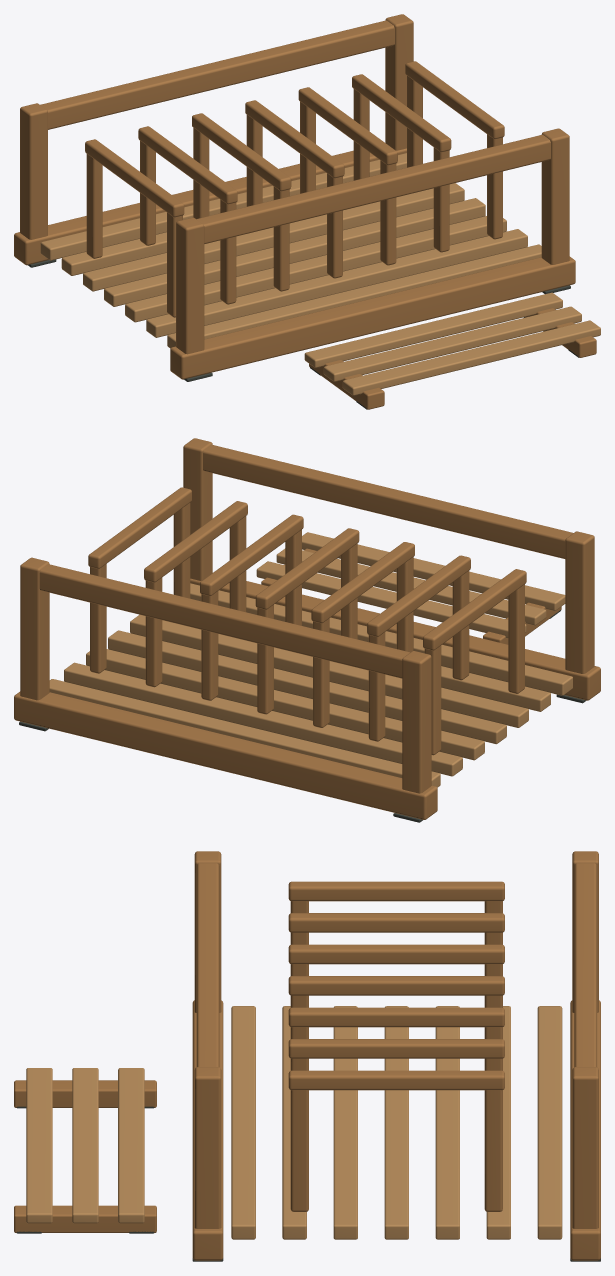
The model's file is dish-rack.glb.
3 renders of one model, top to bottom at view 1: azimuth 30°, elevation 25°; view 2: azimuth 150°, elevation 25°; view 3: azimuth 270°, elevation 25°, orthographic. The views are drawn at different scales.
Parts seen in each view (by area): view 1: Rack_Drain_Slats, Rack_Plate_Dividers, Rack_Upper_Frame, Rack_Lower_Frame, Cup_Mat_Slats, Rack_Corner_Posts, Cup_Mat_Supports; view 2: Rack_Drain_Slats, Rack_Plate_Dividers, Rack_Upper_Frame, Rack_Lower_Frame, Rack_Corner_Posts, Cup_Mat_Slats, Cup_Mat_Supports; view 3: Rack_Plate_Dividers, Rack_Drain_Slats, Cup_Mat_Slats, Rack_Corner_Posts, Rack_Upper_Frame, Rack_Lower_Frame, Cup_Mat_Supports.
Part boxes in pixels (x1,y1,x2,y2): Rack_Drain_Slats: [40, 153, 541, 348]; Rack_Plate_Dividers: [85, 61, 504, 317]; Rack_Upper_Frame: [40, 20, 550, 243]; Rack_Lower_Frame: [14, 148, 575, 379]; Cup_Mat_Slats: [304, 292, 600, 395]; Rack_Corner_Posts: [20, 14, 569, 354]; Cup_Mat_Supports: [309, 308, 596, 409]; Rack_Drain_Slats: [49, 583, 572, 787]; Rack_Plate_Dividers: [88, 487, 526, 755]; Rack_Upper_Frame: [39, 445, 573, 678]; Rack_Lower_Frame: [14, 578, 600, 819]; Rack_Corner_Posts: [20, 438, 594, 793]; Cup_Mat_Slats: [256, 532, 565, 638]; Cup_Mat_Supports: [261, 548, 561, 644]; Rack_Plate_Dividers: [288, 881, 504, 1211]; Rack_Drain_Slats: [231, 1006, 562, 1239]; Cup_Mat_Slats: [26, 1068, 144, 1223]; Rack_Corner_Posts: [194, 851, 598, 1228]; Rack_Upper_Frame: [196, 863, 596, 1067]; Rack_Lower_Frame: [192, 1000, 600, 1260]; Cup_Mat_Supports: [14, 1080, 156, 1232].
Bounding box in the file's own units: 0.54 × 0.2 × 0.575.
